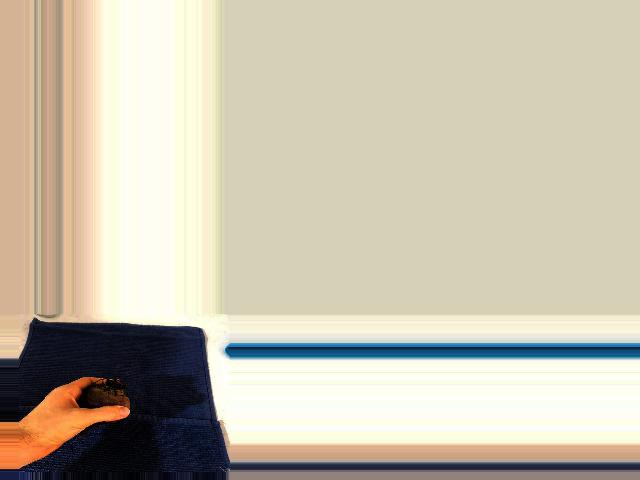beet: (79, 378, 130, 440)
